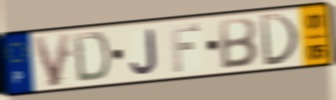B: (218, 16, 259, 71)
D: (258, 12, 301, 68), (71, 31, 112, 84)
F: (169, 22, 201, 74)
J: (129, 27, 159, 76)
V: (30, 31, 73, 89)
